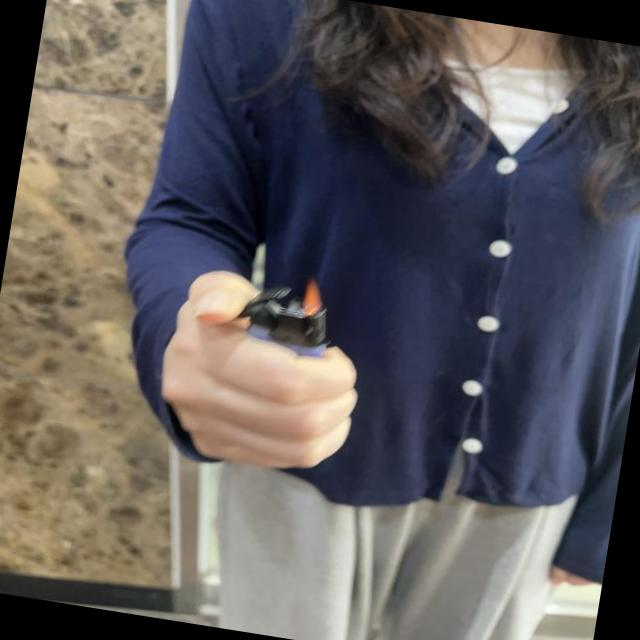Fire: (300, 278, 330, 316)
